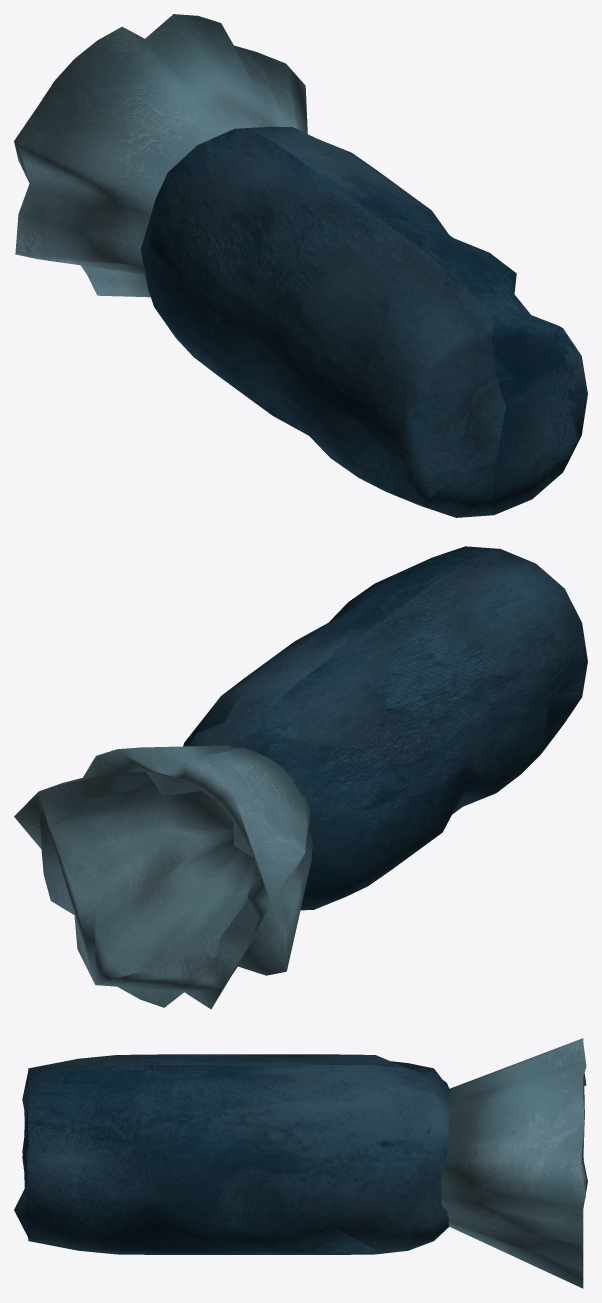
File: spaceship chunks engine.fbx
3 renders of one model, top to bottom at view 1: azimuth 30°, elevation 25°; view 2: azimuth 150°, elevation 25°; view 3: azimuth 270°, elevation 25°, orthographic. The views are drawn at different scales.
Visible parts, largest first — view 1: engine right, big engine; view 2: engine right, big engine; view 3: engine right, big engine.
Part boxes in pixels (left/top/right/bottom): engine right: left=141, top=126, right=587, bottom=517; big engine: left=14, top=14, right=307, bottom=297; engine right: left=183, top=546, right=587, bottom=910; big engine: left=14, top=745, right=312, bottom=1009; engine right: left=14, top=1054, right=450, bottom=1254; big engine: left=441, top=1038, right=587, bottom=1288.
Bounding box in the file's own units: 215 × 186 × 450.
